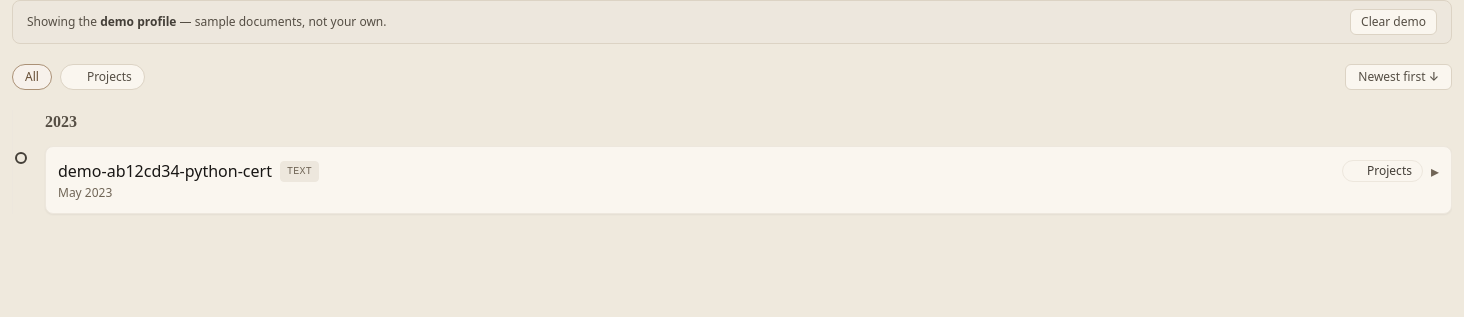
Test case: Timeline clear-demo control › refetches after clearing, so the empty state comes back
The width and height of the screenshot is (1464, 317).
Click the button "Clear demo": [1394, 22] box [1350,9,1437,35]
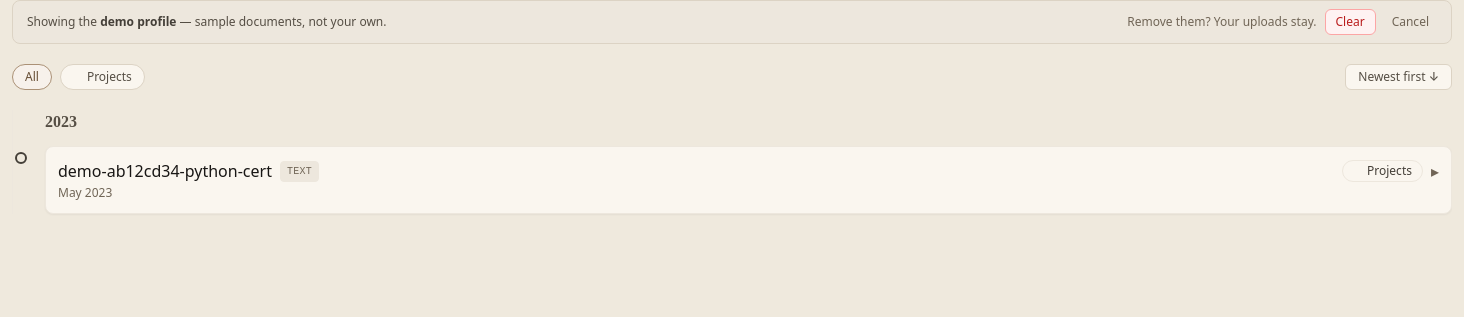
Click the button "Clear": [1350, 22] box [1324,9,1376,35]
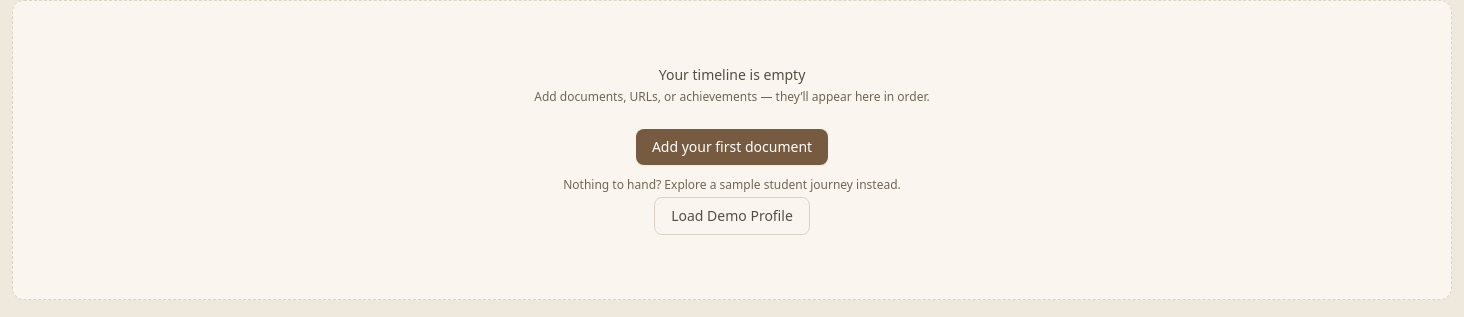
Result: the text "Your timeline is empty" is shown at [659,65,805,84]
